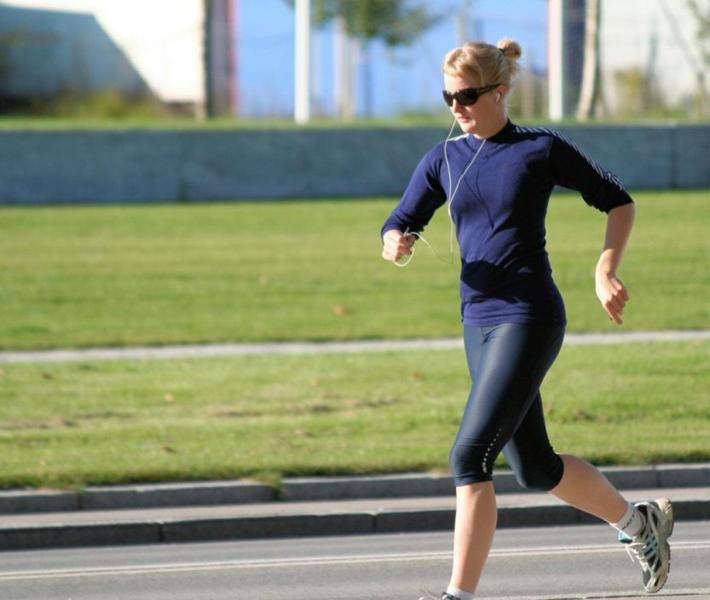person: (377, 38, 674, 597)
